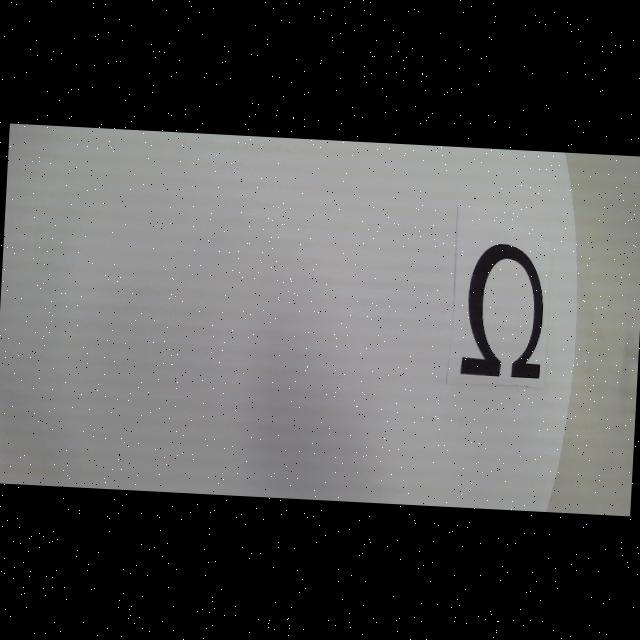OMEGA: (460, 242, 547, 379)
